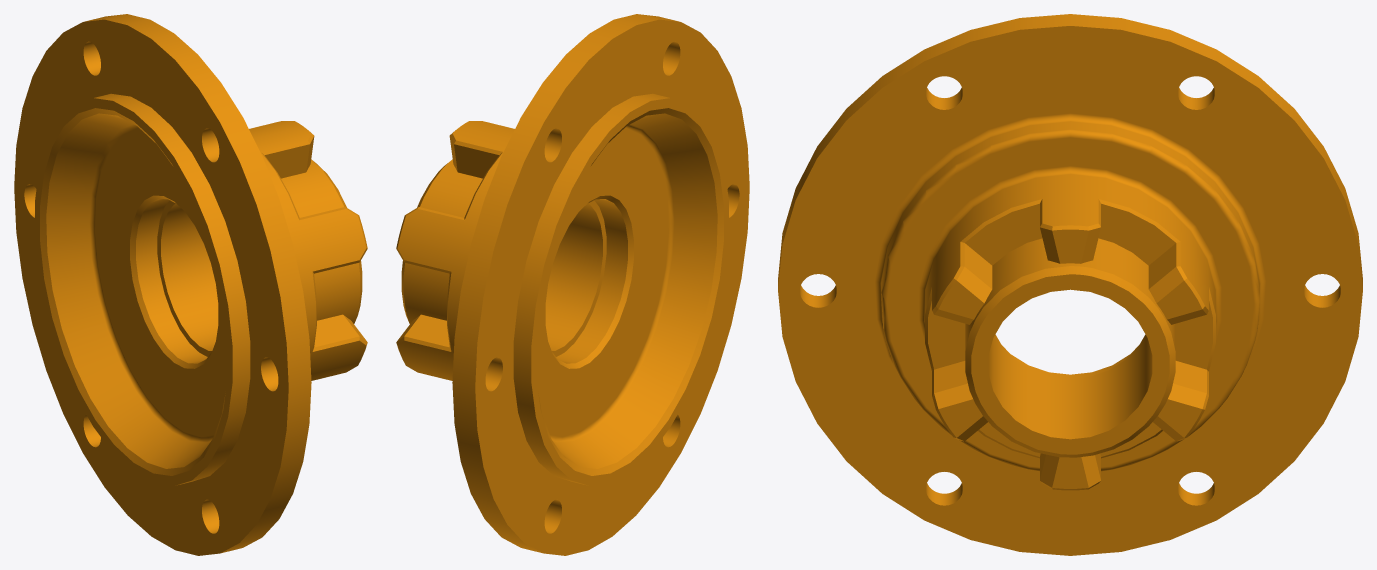
File: DG_RearCover_Rehan-Body_coloured.gltf
3 views of the same model, side by side, from view 1: azimuth 30°, elevation 25°; view 2: azimuth 150°, elevation 25°; view 3: azimuth 270°, elevation 25° (orthographic). The views are drawn at different scales.
Parts seen in each view (by area): view 1: Body; view 2: Body; view 3: Body.
Part boxes in pixels (left/top/right/bottom): Body: left=14, top=14, right=367, bottom=555; Body: left=396, top=14, right=749, bottom=555; Body: left=778, top=14, right=1362, bottom=555.
Bounding box in the file's own units: 0.036 × 0.094 × 0.094.
